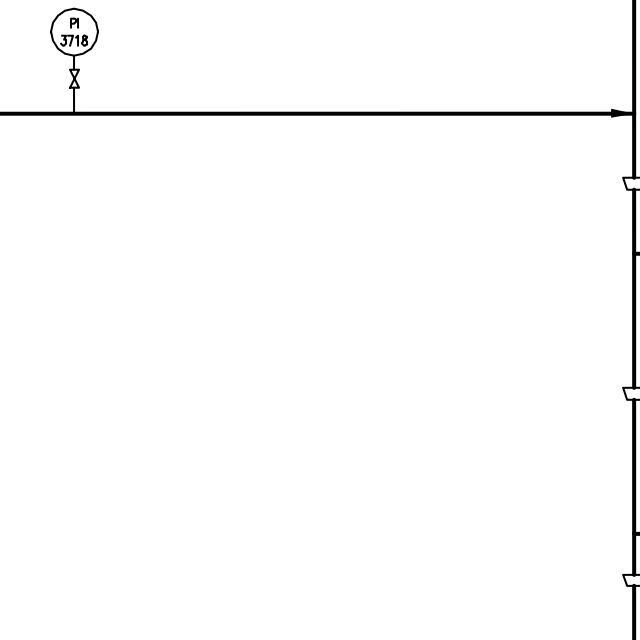GV: (67, 64, 83, 90)
